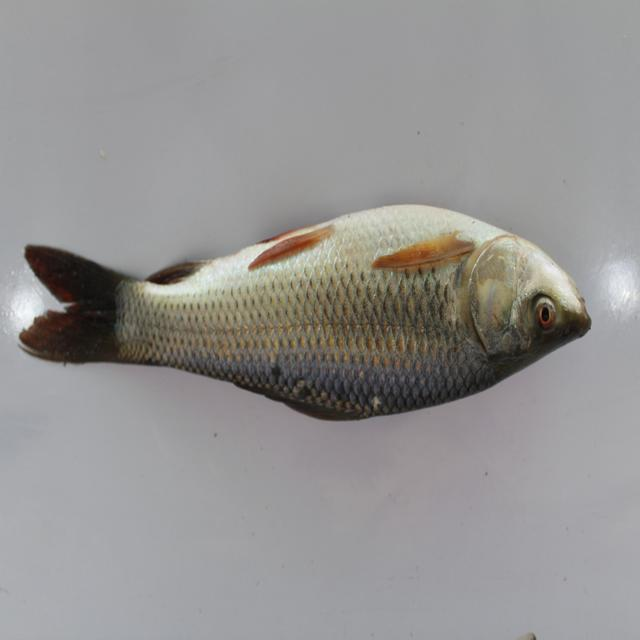Rohu: (22, 221, 609, 453)
